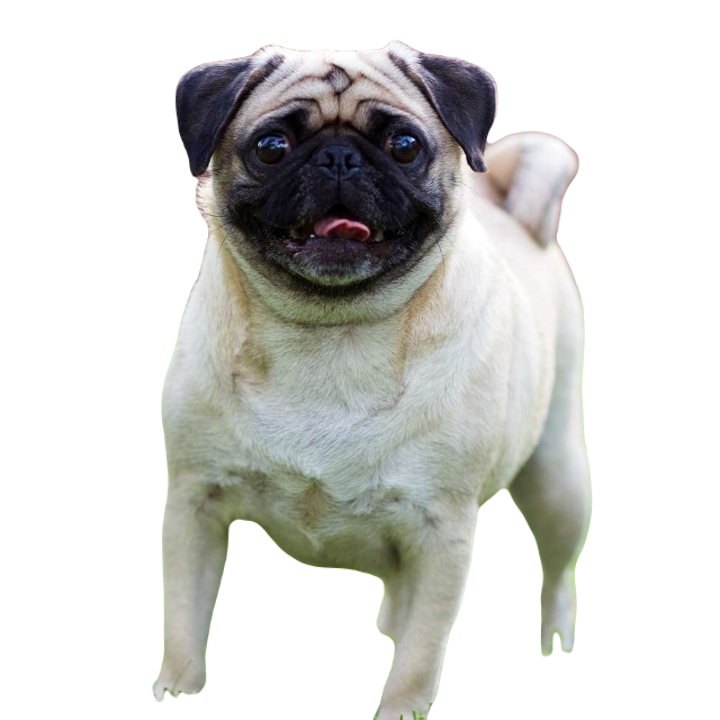Dog: (148, 37, 594, 719)
